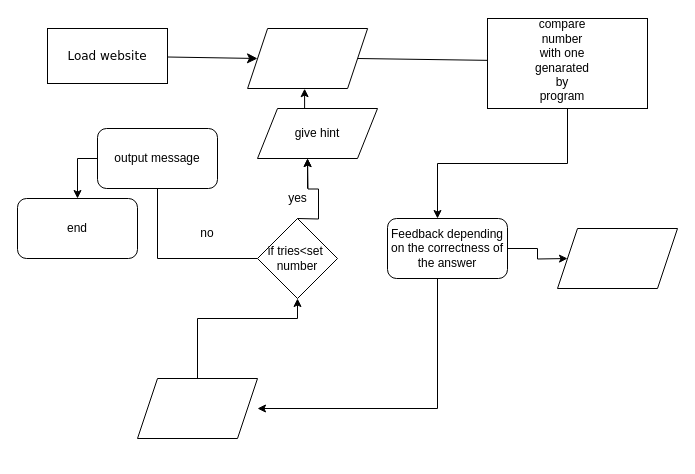
The diagram is 695 pixels wide and 474 high, and some of its shapes have lost their labels. The shapes that lost their labels are listed below. From the top down, each one's centre as x and y in pixels, then its label:
[307,58]: user inputs number
[617,258]: praise message if successfull
[197,408]: try again message
